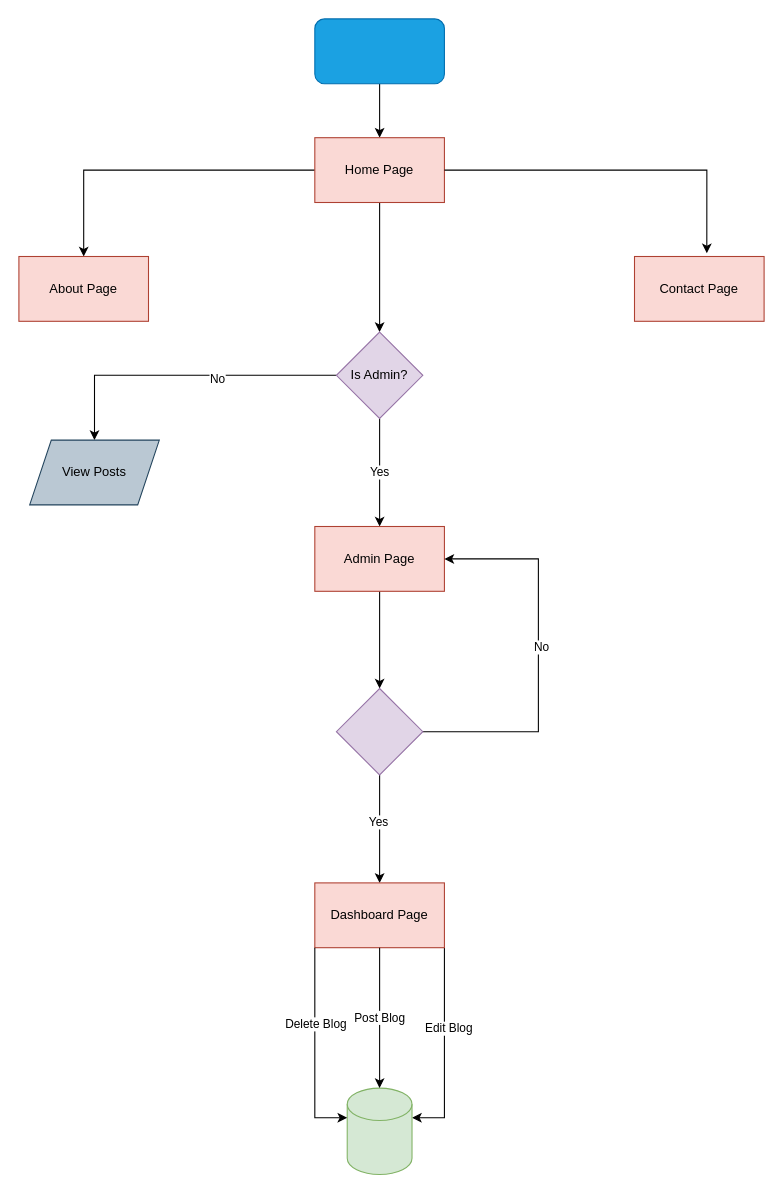
Some shapes in this 783 by 1193 pixel diagram are drawn without their labels. The box of each missing label's shape, as (x1, y1, x2, y2) in pixels:
Is Logged In?: (335, 687, 423, 775)
MongoDB: (346, 1087, 412, 1174)
Start: (314, 18, 444, 84)
